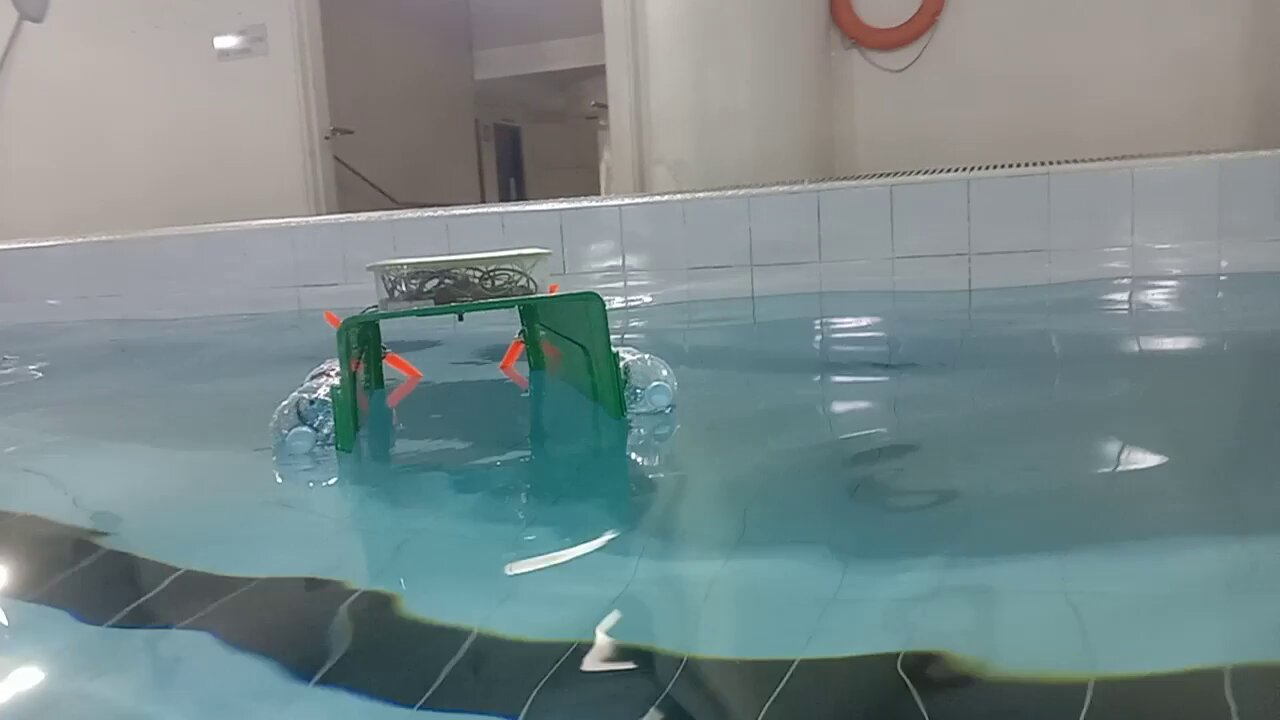drone: (258, 243, 683, 475)
